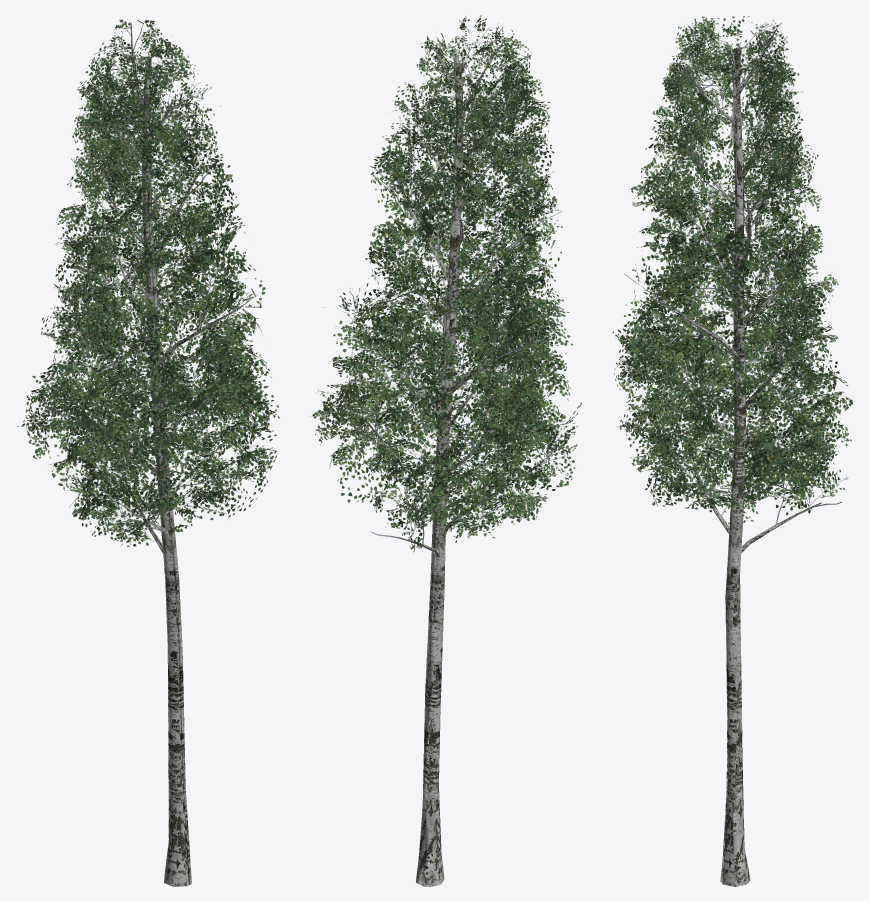
The picture shows the model from 3 angles, left to right: view 1: azimuth 30°, elevation 25°; view 2: azimuth 150°, elevation 25°; view 3: azimuth 270°, elevation 25°; orthographic projection.
Parts seen in each view (by area): view 1: Box001; view 2: Box001; view 3: Box001.
Part boxes in pixels (<box>): Box001: <box>17,19,279,886</box>; Box001: <box>310,15,581,886</box>; Box001: <box>612,16,854,886</box>.
Bounding box in the file's own units: 7.2 × 25.14 × 6.56.
Materials: 2 (2 with a texture image).
